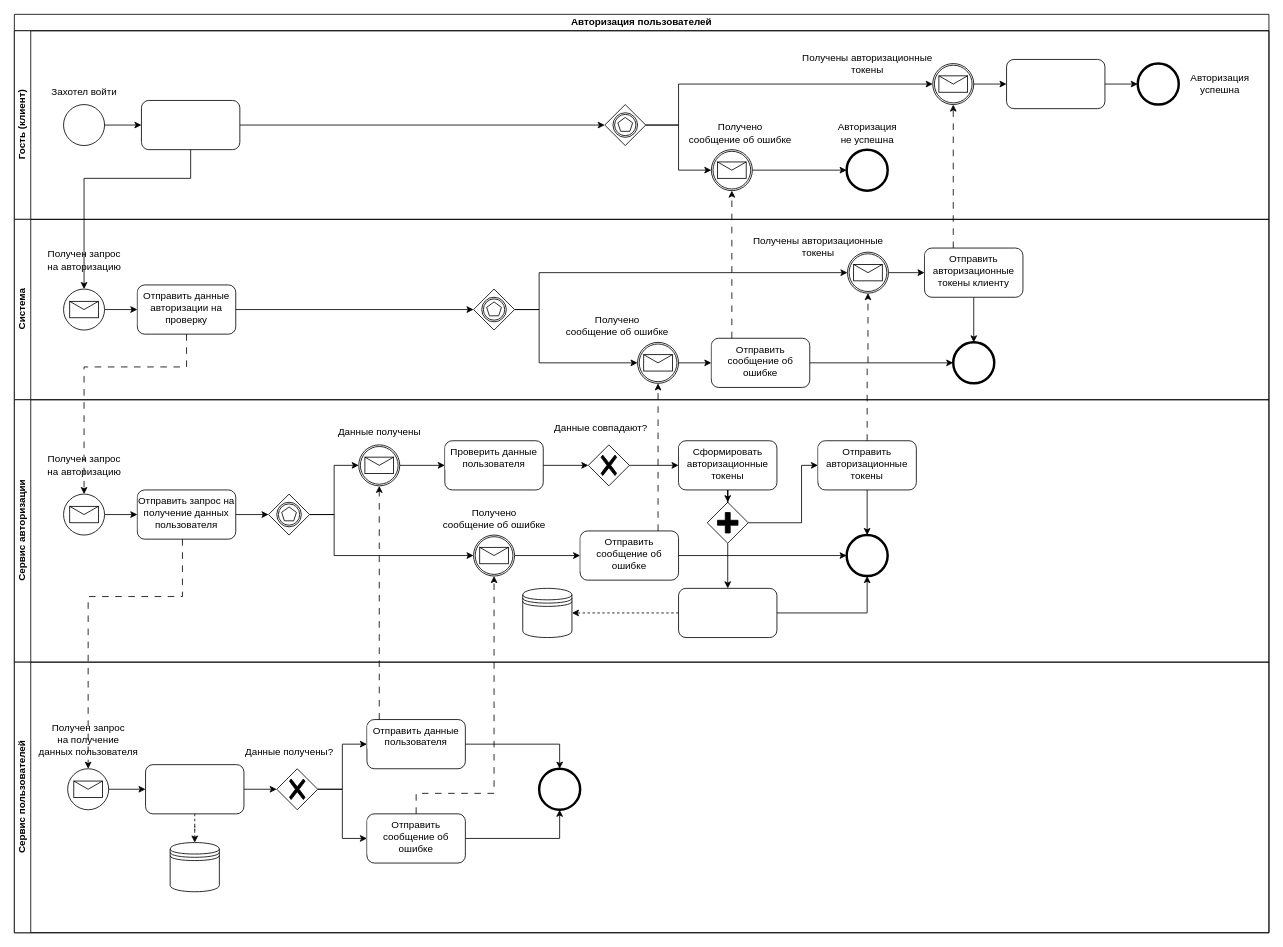
Image size: 1283x947. Some labels were removed from this diagram. The shapes that lost their labels are listed below. From the top down, each one's centre as x and y in pixels, then its label:
[1055,84]: Сохранить авторизационные токены
[190,125]: Сформировать запрос на авторизацию
[547,613]: Токены
[727,613]: Сохранить токен обновления
[194,789]: Получить данные пользователя
[194,867]: Пользователи
